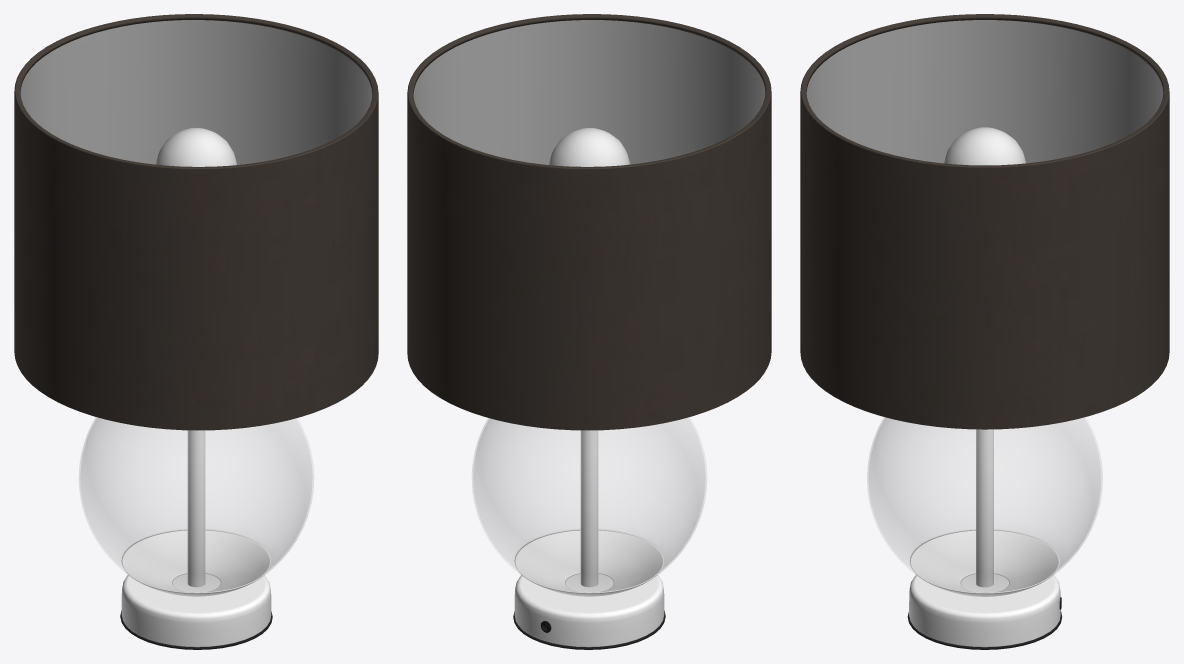
File: IridescenceLamp.glb
3 views of the same model, side by side, from view 1: azimuth 30°, elevation 25°; view 2: azimuth 150°, elevation 25°; view 3: azimuth 270°, elevation 25° (orthographic).
Visible parts, largest first — view 1: lamp, lamp_iridescence, lamp_transmission; view 2: lamp, lamp_iridescence, lamp_transmission; view 3: lamp, lamp_iridescence, lamp_transmission.
Part boxes in pixels (left/top/right/bottom): lamp: left=14, top=14, right=378, bottom=649; lamp_iridescence: left=20, top=20, right=372, bottom=164; lamp_transmission: left=79, top=417, right=313, bottom=592; lamp: left=407, top=14, right=771, bottom=649; lamp_iridescence: left=413, top=20, right=765, bottom=164; lamp_transmission: left=472, top=417, right=706, bottom=592; lamp: left=800, top=14, right=1169, bottom=649; lamp_iridescence: left=806, top=20, right=1163, bottom=163; lamp_transmission: left=867, top=417, right=1102, bottom=592.
Size of the model in its own units: 0.2973 by 0.4761 by 0.3019.
Materials: 3 (3 with a texture image).
